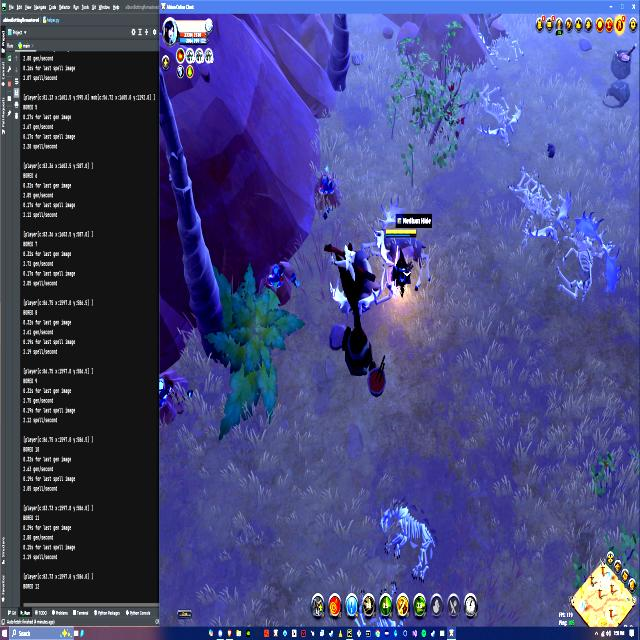mob: (376, 220, 434, 286), (346, 238, 390, 318)
red: (382, 223, 417, 297)
